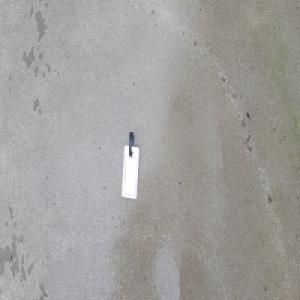LuggageTag: (120, 130, 141, 201)
